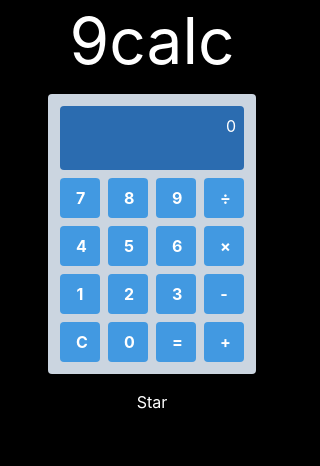
9calc › can calculate 60 x 24 correctly
The width and height of the screenshot is (320, 466).
Click the button "6": (176, 246) [156,226,196,266]
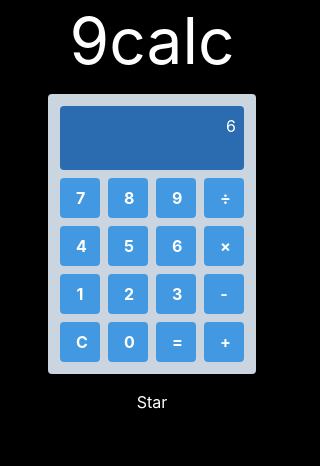
Now the text with test id "input" reads "6", box [226,116,236,136]
Click the button "0": (128, 342) [108,322,148,362]
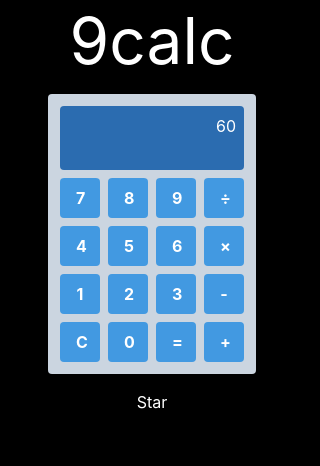
Now the text with test id "input" reads "60", box [216,116,236,136]
Click the button "×": (224, 246) [204,226,244,266]
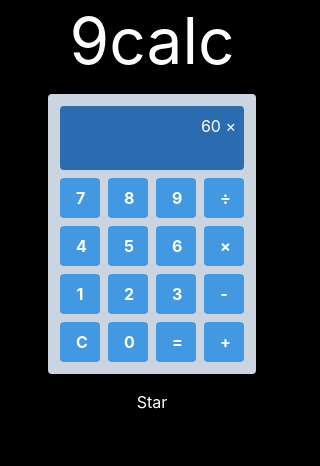
Now the text with test id "input" reads "60 ×", box [201,116,236,136]
Click the button "2": (128, 294) [108,274,148,314]
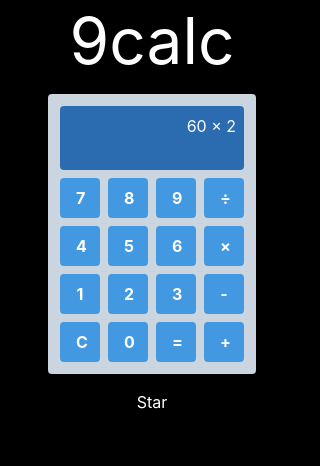
Now the text with test id "input" reads "60 × 2", box [187,116,236,136]
Click the button "4": (80, 246) [60,226,100,266]
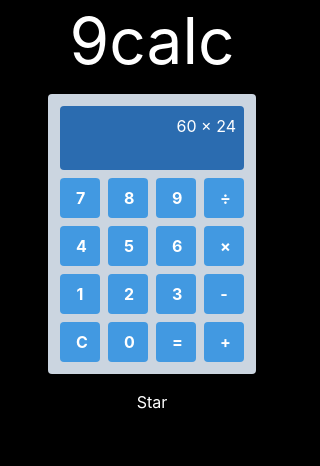
Now the text with test id "input" reads "60 × 24", box [177,116,237,136]
Click the button "=": (176, 342) [156,322,196,362]
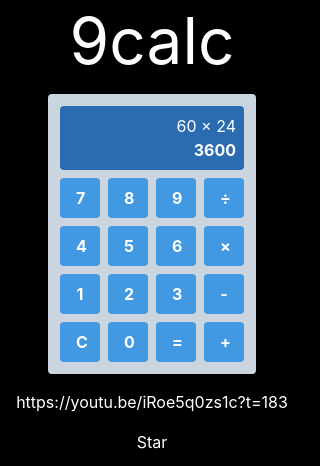
Now the text with test id "output" reads "3600", box [194,140,236,160]
Now the link "https://youtu.be/iRoe5q0zs1c?t=183" is shown, box [16,392,288,412]
